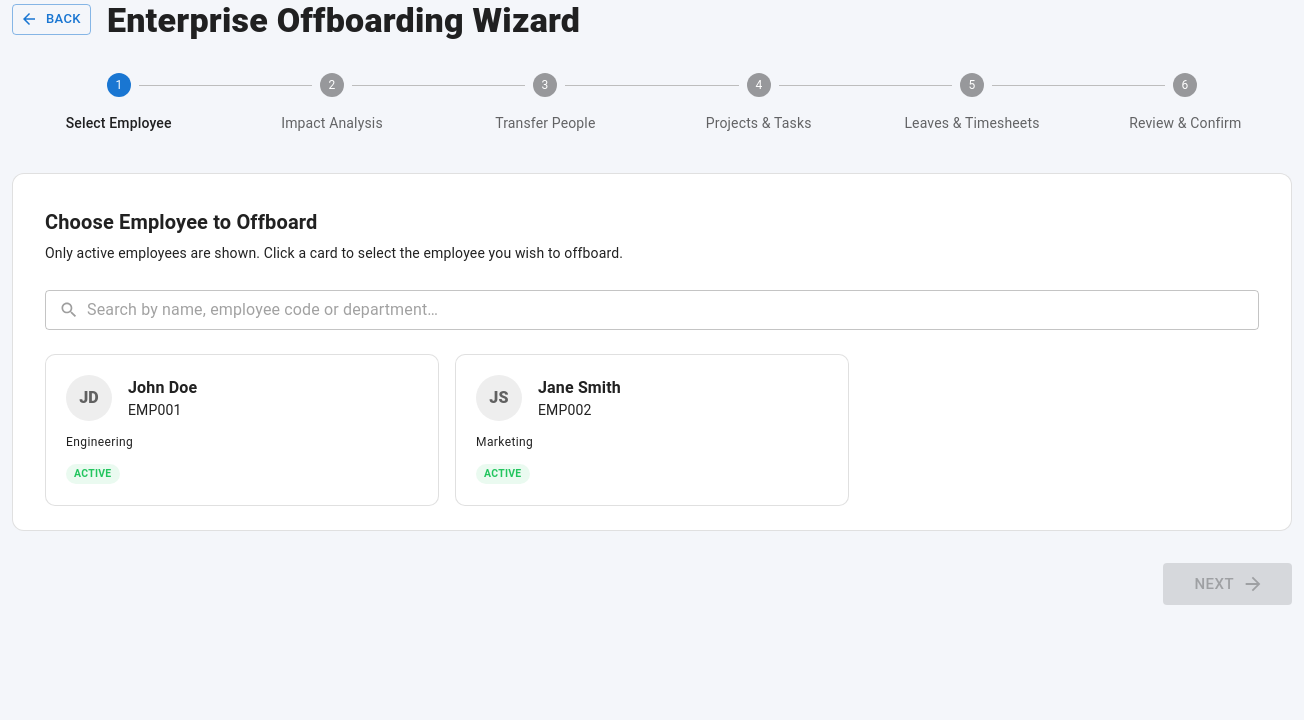
Test: OffboardingWizard › shows impact analysis loading state
What coordinates should you click on to do the following:
click the text "John Doe"
I would click on:
 (163, 388)
Its box is [128,376,197,400].
(page scrolled)
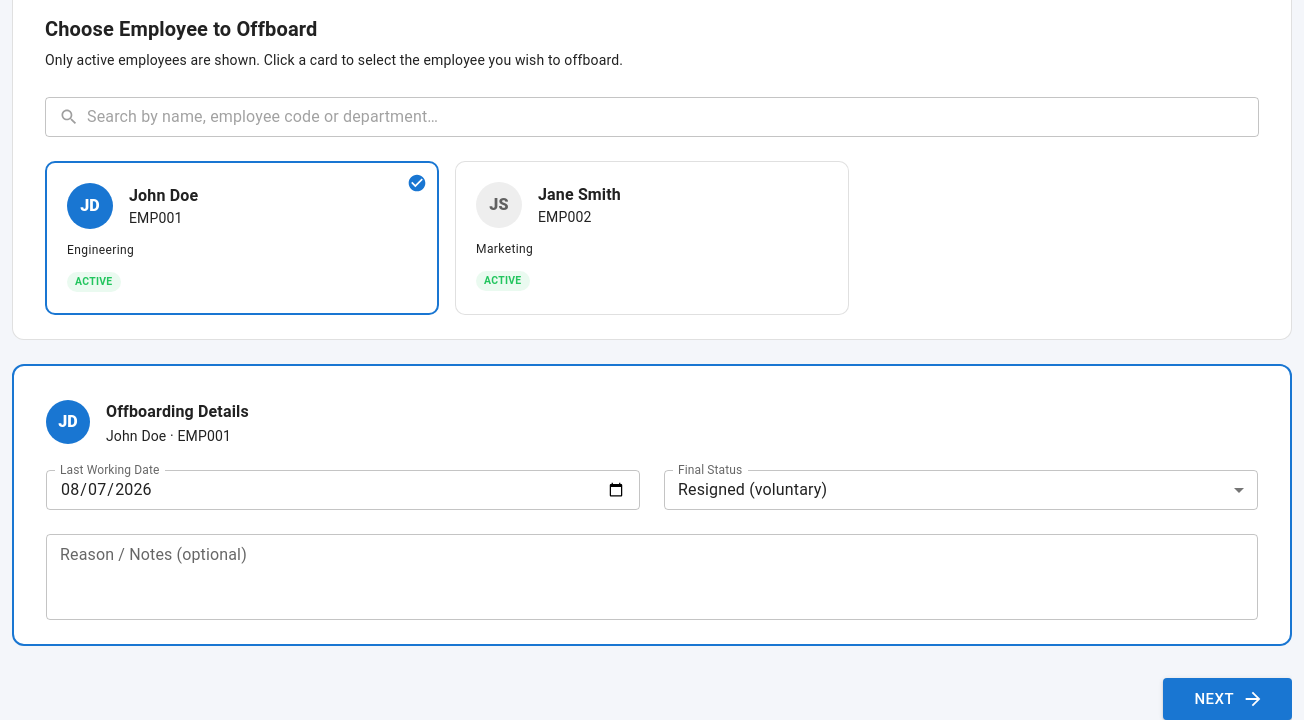
What coordinates should you click on to do the following:
click the button "Next"
I would click on:
 (1227, 699)
Its box is [1162,678,1292,719].
(page scrolled)
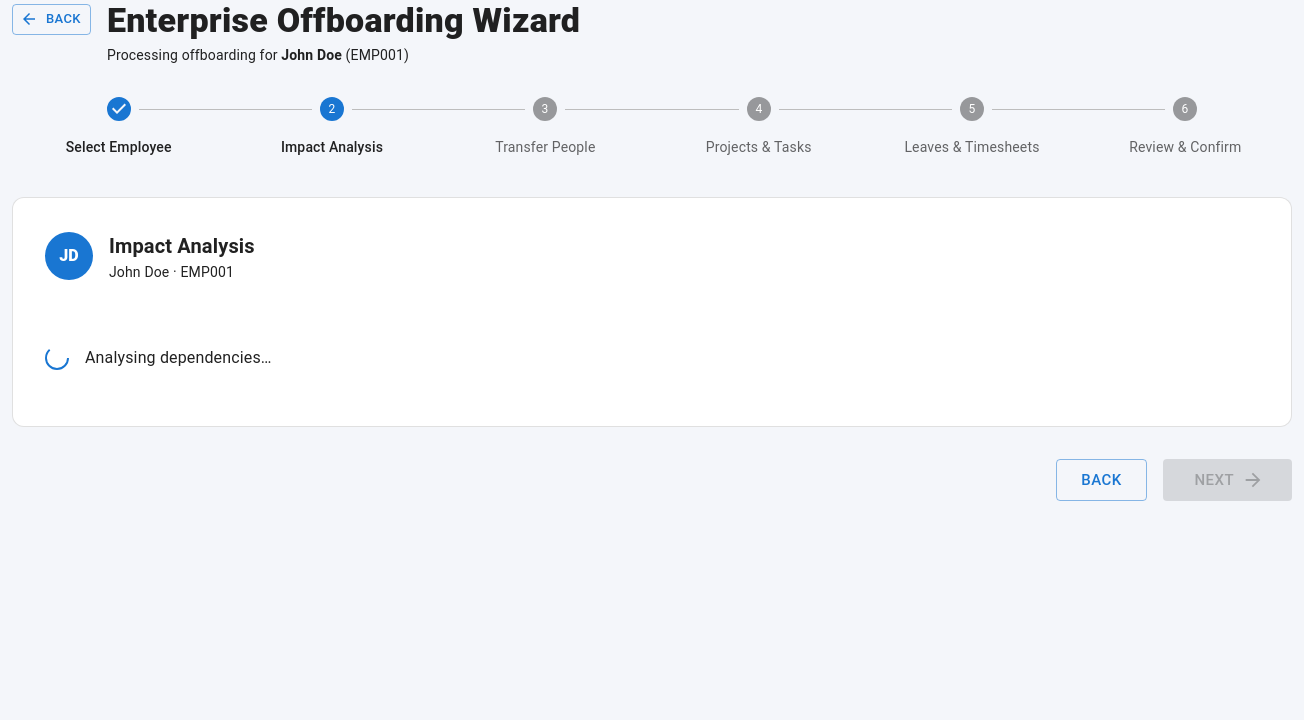
Check: the text "Analysing dependencies…" is shown, box [85,346,272,370]
